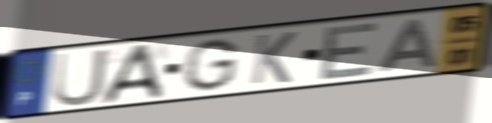A: (99, 41, 167, 107), (374, 16, 439, 75)
E: (316, 19, 382, 83)
G: (179, 37, 242, 93)
K: (248, 30, 299, 87)
U: (50, 46, 111, 109)
